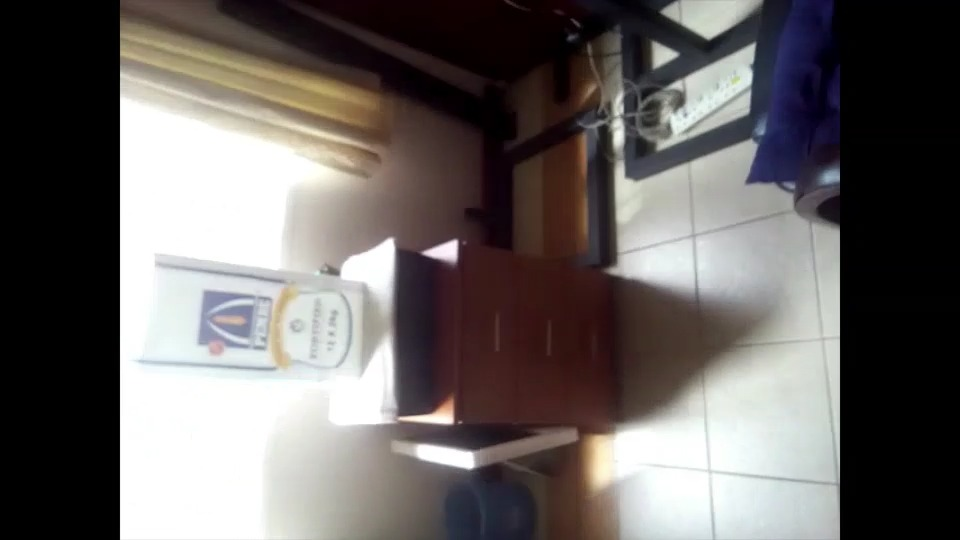wheat_flour_blue_label: (135, 243, 372, 382)
